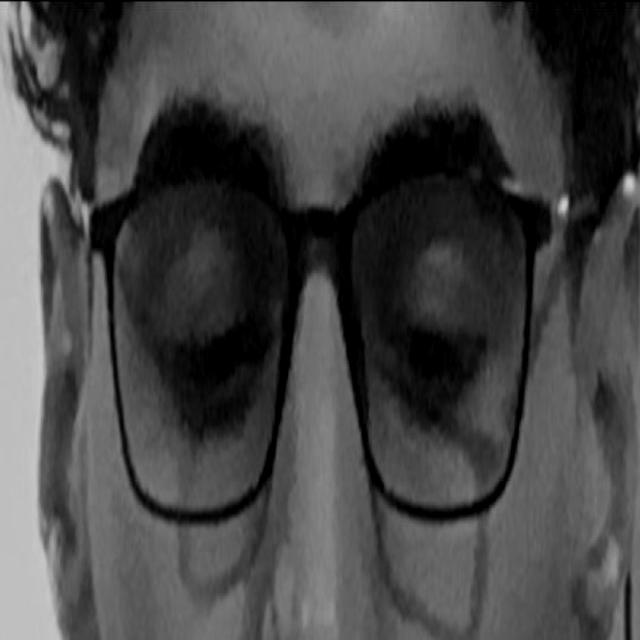real: (140, 190, 530, 538)
